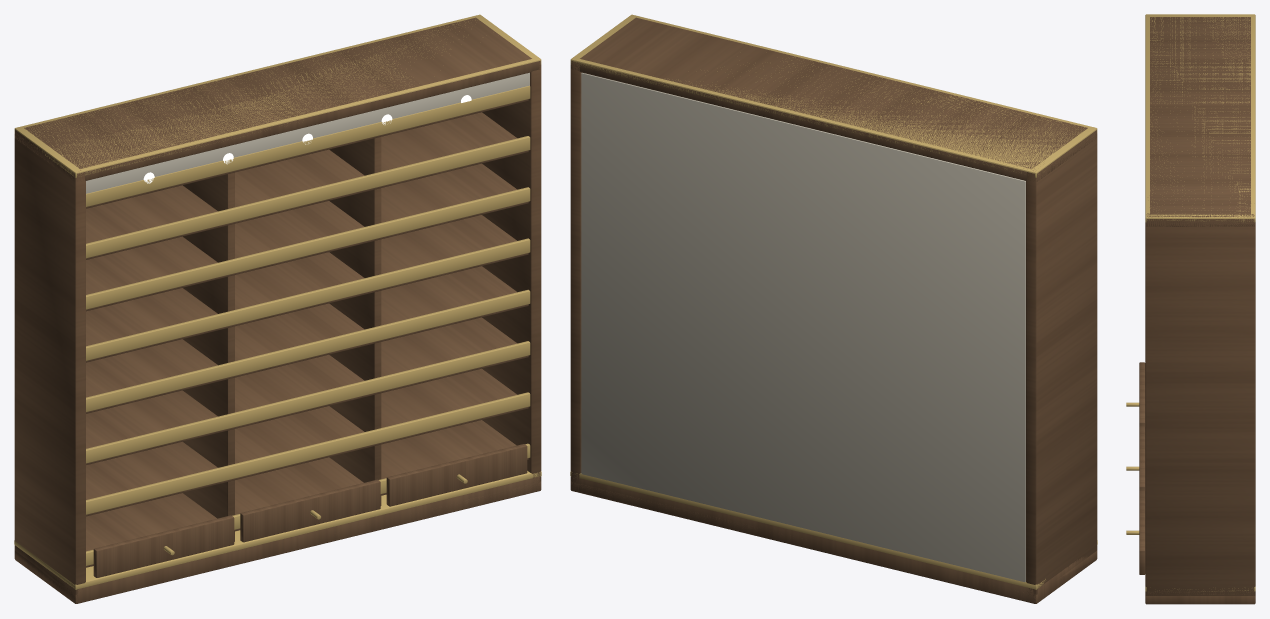
Rendered from pf_display_ball_display_t5.glb.
The picture shows the model from 3 angles, left to right: view 1: azimuth 30°, elevation 25°; view 2: azimuth 150°, elevation 25°; view 3: azimuth 270°, elevation 25°; orthographic projection. The views are drawn at different scales.
Parts seen in each view (by area): view 1: Case_Left, Crown_Main, Shelf_03, Shelf_07, Shelf_02, Shelf_04, Shelf_06, Shelf_05, Case_Right, Shelf_01, Crown_Trim, Millwork_Divider_02 (+17 smaller); view 2: Case_Back, Case_Left, Crown_Main, Crown_Trim, Plinth_Base, Case_Right, Case_Top, Plinth_Trim, Case_Base; view 3: Case_Right, Crown_Main, Crown_Trim, Case_Base, Drawer_Front_03, Case_Top, Drawer_Front_01, Drawer_Front_02.
Boxes of the visible parts, x1,y1,x2,y2 form: Case_Left: (14,131,85,603); Crown_Main: (24,17,531,168); Shelf_03: (86,317,528,464); Shelf_07: (86,112,528,259); Shelf_02: (86,368,528,516); Shelf_04: (86,266,528,413); Shelf_06: (86,163,528,311); Shelf_05: (86,215,528,362); Case_Right: (482,61,541,489); Shelf_01: (86,420,528,567); Crown_Trim: (14,14,541,177); Millwork_Divider_02: (329,137,381,505); Case_Back: (581,72,1025,582); Case_Left: (1026,130,1097,603); Crown_Main: (580,17,1087,168); Crown_Trim: (570,14,1097,177); Plinth_Base: (572,477,1094,601); Case_Right: (570,61,581,491); Case_Top: (570,61,1096,181); Plinth_Trim: (570,471,1097,589); Case_Base: (570,481,1097,603); Case_Right: (1145,213,1255,602); Crown_Main: (1150,17,1250,214); Crown_Trim: (1145,14,1255,222); Case_Base: (1145,596,1255,604); Drawer_Front_03: (1139,490,1145,574); Case_Top: (1145,213,1255,226); Drawer_Front_01: (1139,362,1145,426); Drawer_Front_02: (1139,426,1145,490).
Bounding box in the file's own units: 2.8 × 2.48 × 0.75.
Materials: 5 (1 with a texture image).
